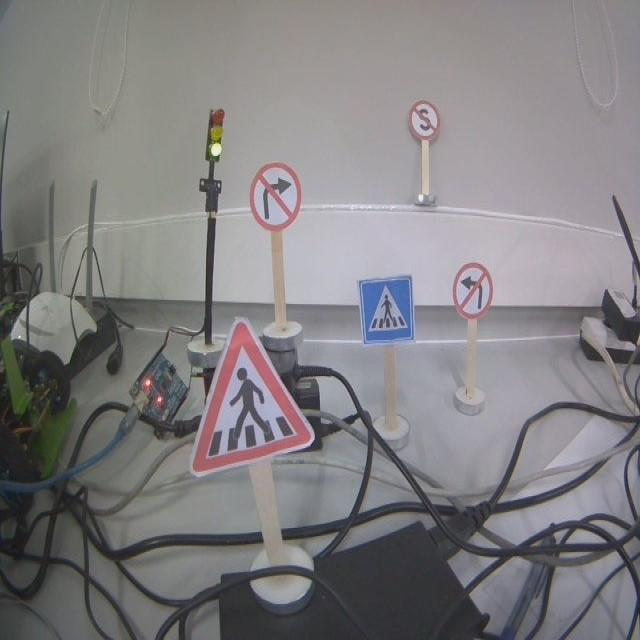Dilarang Belok Kanan: (250, 163, 301, 229)
Dilarang Belok Kiri: (452, 262, 493, 318)
Lampu Hijau: (206, 105, 225, 169)
Rambu Berhenti: (409, 101, 440, 140)
Rambu Penyebrangan: (191, 324, 310, 472), (356, 274, 415, 346)
